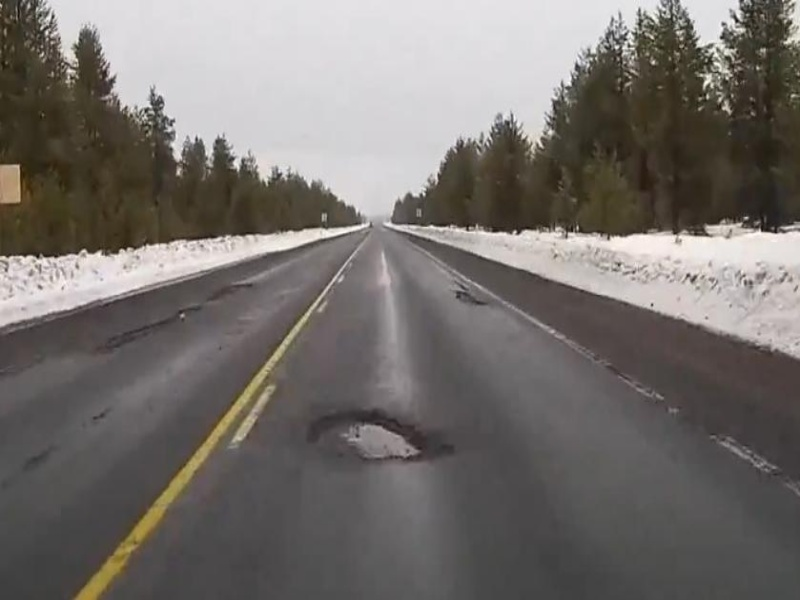pothole: (308, 398, 440, 466), (444, 284, 489, 313)
